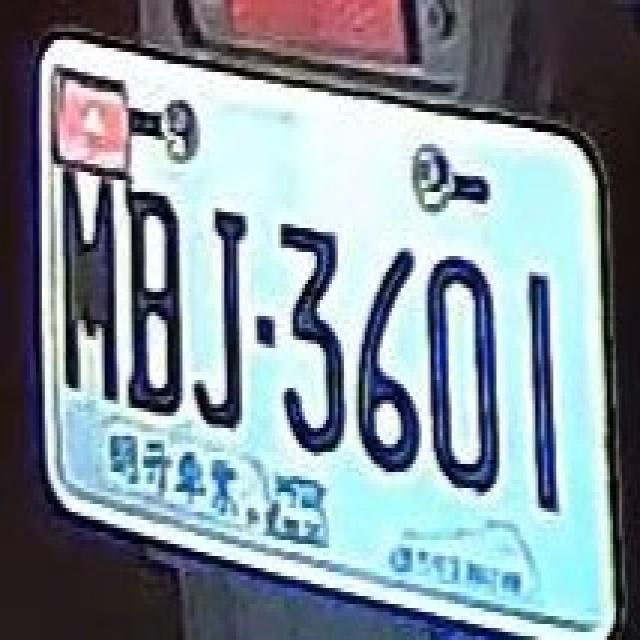license-plate: (38, 18, 617, 636)
